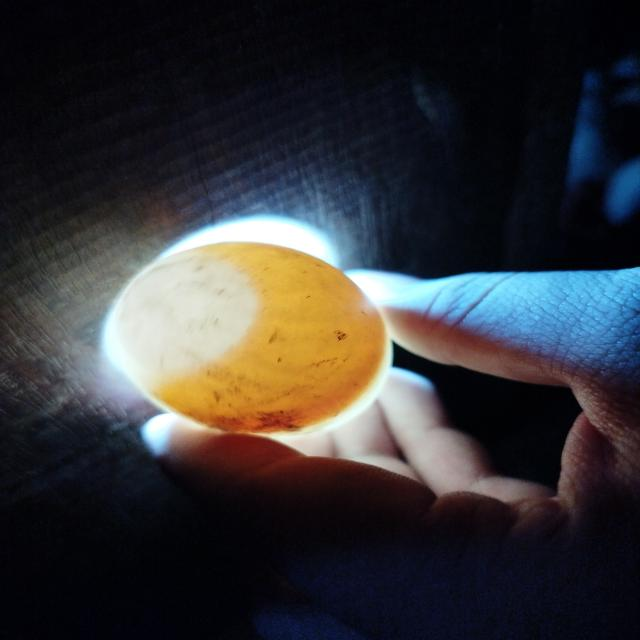Camara de Ar: (118, 251, 257, 377)
Gema Quebrada: (179, 313, 385, 433)
